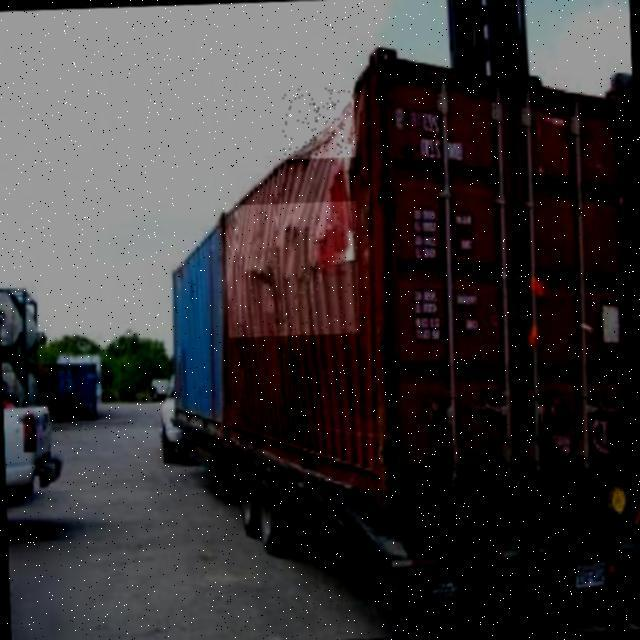Deframe: (281, 87, 355, 160)
Dent: (224, 201, 360, 337)
